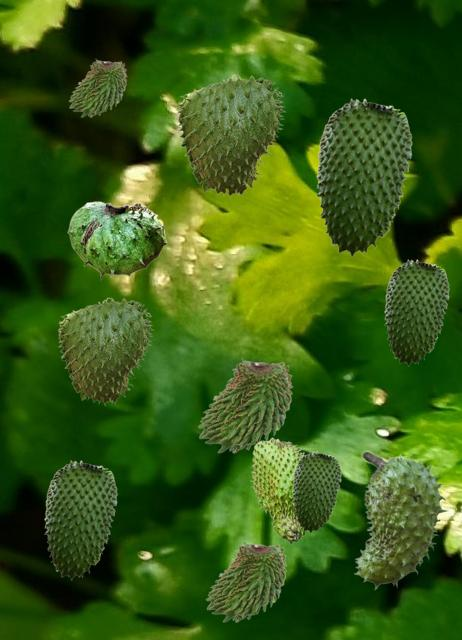guyabano: (316, 98, 411, 256), (177, 74, 285, 198), (353, 451, 448, 589), (58, 297, 153, 405), (197, 357, 292, 452), (44, 460, 116, 579), (67, 201, 166, 279), (384, 259, 448, 365), (205, 540, 286, 621), (250, 437, 306, 543), (292, 451, 340, 532), (68, 58, 126, 116)
